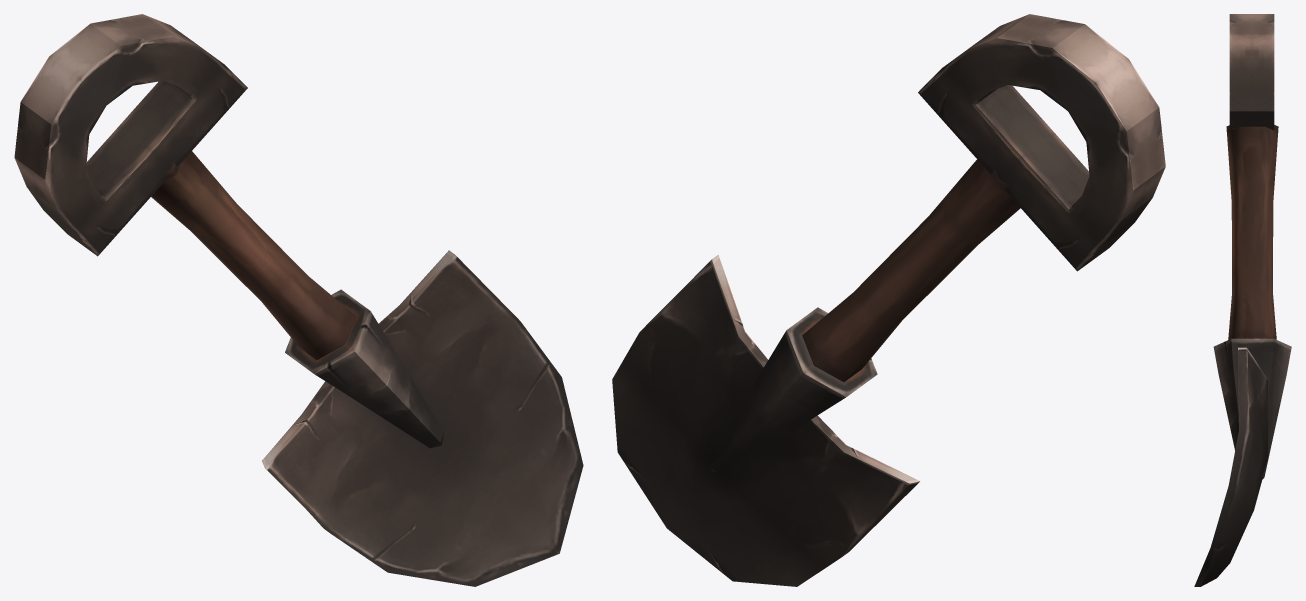
Rendered from 80_shovel.FBX.
3 views of the same model, side by side, from view 1: azimuth 30°, elevation 25°; view 2: azimuth 150°, elevation 25°; view 3: azimuth 270°, elevation 25° (orthographic). The views are drawn at different scales.
Parts seen in each view (by area): view 1: Object039; view 2: Object039; view 3: Object039.
Part boxes in pixels (<box>): Object039: <box>14,14,583,586</box>; Object039: <box>612,14,1165,586</box>; Object039: <box>1194,14,1291,586</box>.
Size of the model in its own units: 44.72 by 50 by 9.96.
